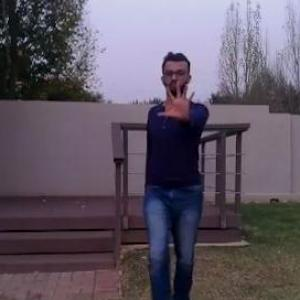follow_hand: (157, 77, 198, 120)
